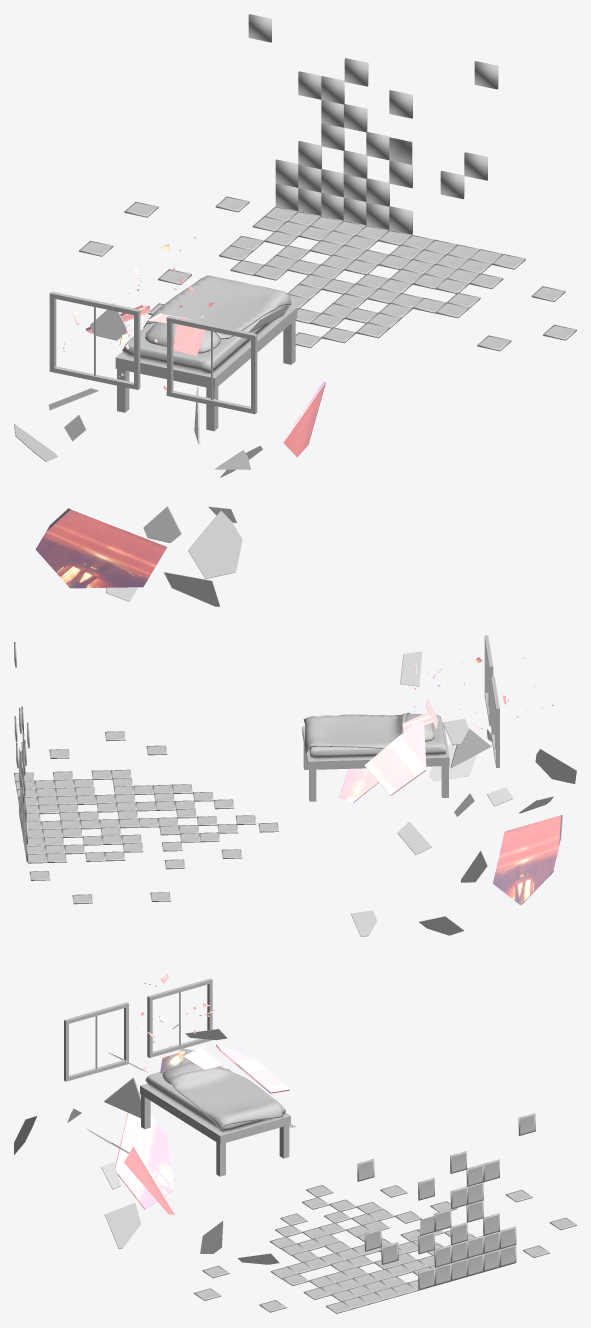
Rendered from tanja.glb.
3 renders of one model, top to bottom at view 1: azimuth 30°, elevation 25°; view 2: azimuth 150°, elevation 25°; view 3: azimuth 270°, elevation 25°, orthographic. The views are drawn at different scales.
Parts seen in each view (by area): view 1: tiles.003, tiles.002, footage, tiles, bed, blanket, shards.002, tiles.001, window.001, window, shards.001, shard.002 (+2 smaller); view 2: footage, tiles.002, tiles, tiles.001, blanket, bed, shards.002, shards.001, tiles.003, window.001, shard.011, window (+3 smaller); view 3: tiles.003, footage, tiles, blanket, bed, tiles.001, tiles.002, shards.002, window, window.001, shards.001.
Part boxes in pixels (box(x1,y1,x2,y2)): tiles.003: box(248, 14, 498, 234); tiles.002: box(79, 196, 576, 351); footage: box(35, 244, 325, 588); tiles: box(344, 235, 525, 338); bed: box(115, 305, 297, 431); blanket: box(143, 275, 291, 339); shards.002: box(14, 424, 242, 606); tiles.001: box(288, 245, 377, 348); window.001: box(49, 291, 140, 389); window: box(166, 316, 257, 414); shards.001: box(194, 387, 262, 522); shard.002: box(143, 506, 181, 543); footage: box(339, 666, 563, 905); tiles.002: box(26, 731, 278, 904); tiles: box(14, 769, 192, 814); tiles.001: box(60, 792, 256, 851); blanket: box(303, 712, 409, 754); bed: box(302, 714, 449, 801); shards.002: box(419, 748, 576, 935); shards.001: box(429, 728, 501, 816); tiles.003: box(14, 642, 29, 862); window.001: box(491, 677, 499, 767); shard.011: box(400, 651, 422, 686); window: box(484, 635, 493, 726); tiles.003: box(357, 1113, 535, 1289); footage: box(115, 1003, 289, 1214); tiles: box(269, 1236, 417, 1313); blanket: box(169, 1067, 282, 1131); bed: box(140, 1066, 290, 1176); tiles.001: box(275, 1197, 427, 1271); tiles.002: box(194, 1185, 576, 1312); shards.002: box(14, 1048, 223, 1253); window: box(64, 1002, 128, 1081); window.001: box(147, 978, 212, 1057); shards.001: box(67, 1077, 140, 1189).
Size of the model in its own units: 32.99 by 18.35 by 34.15.
